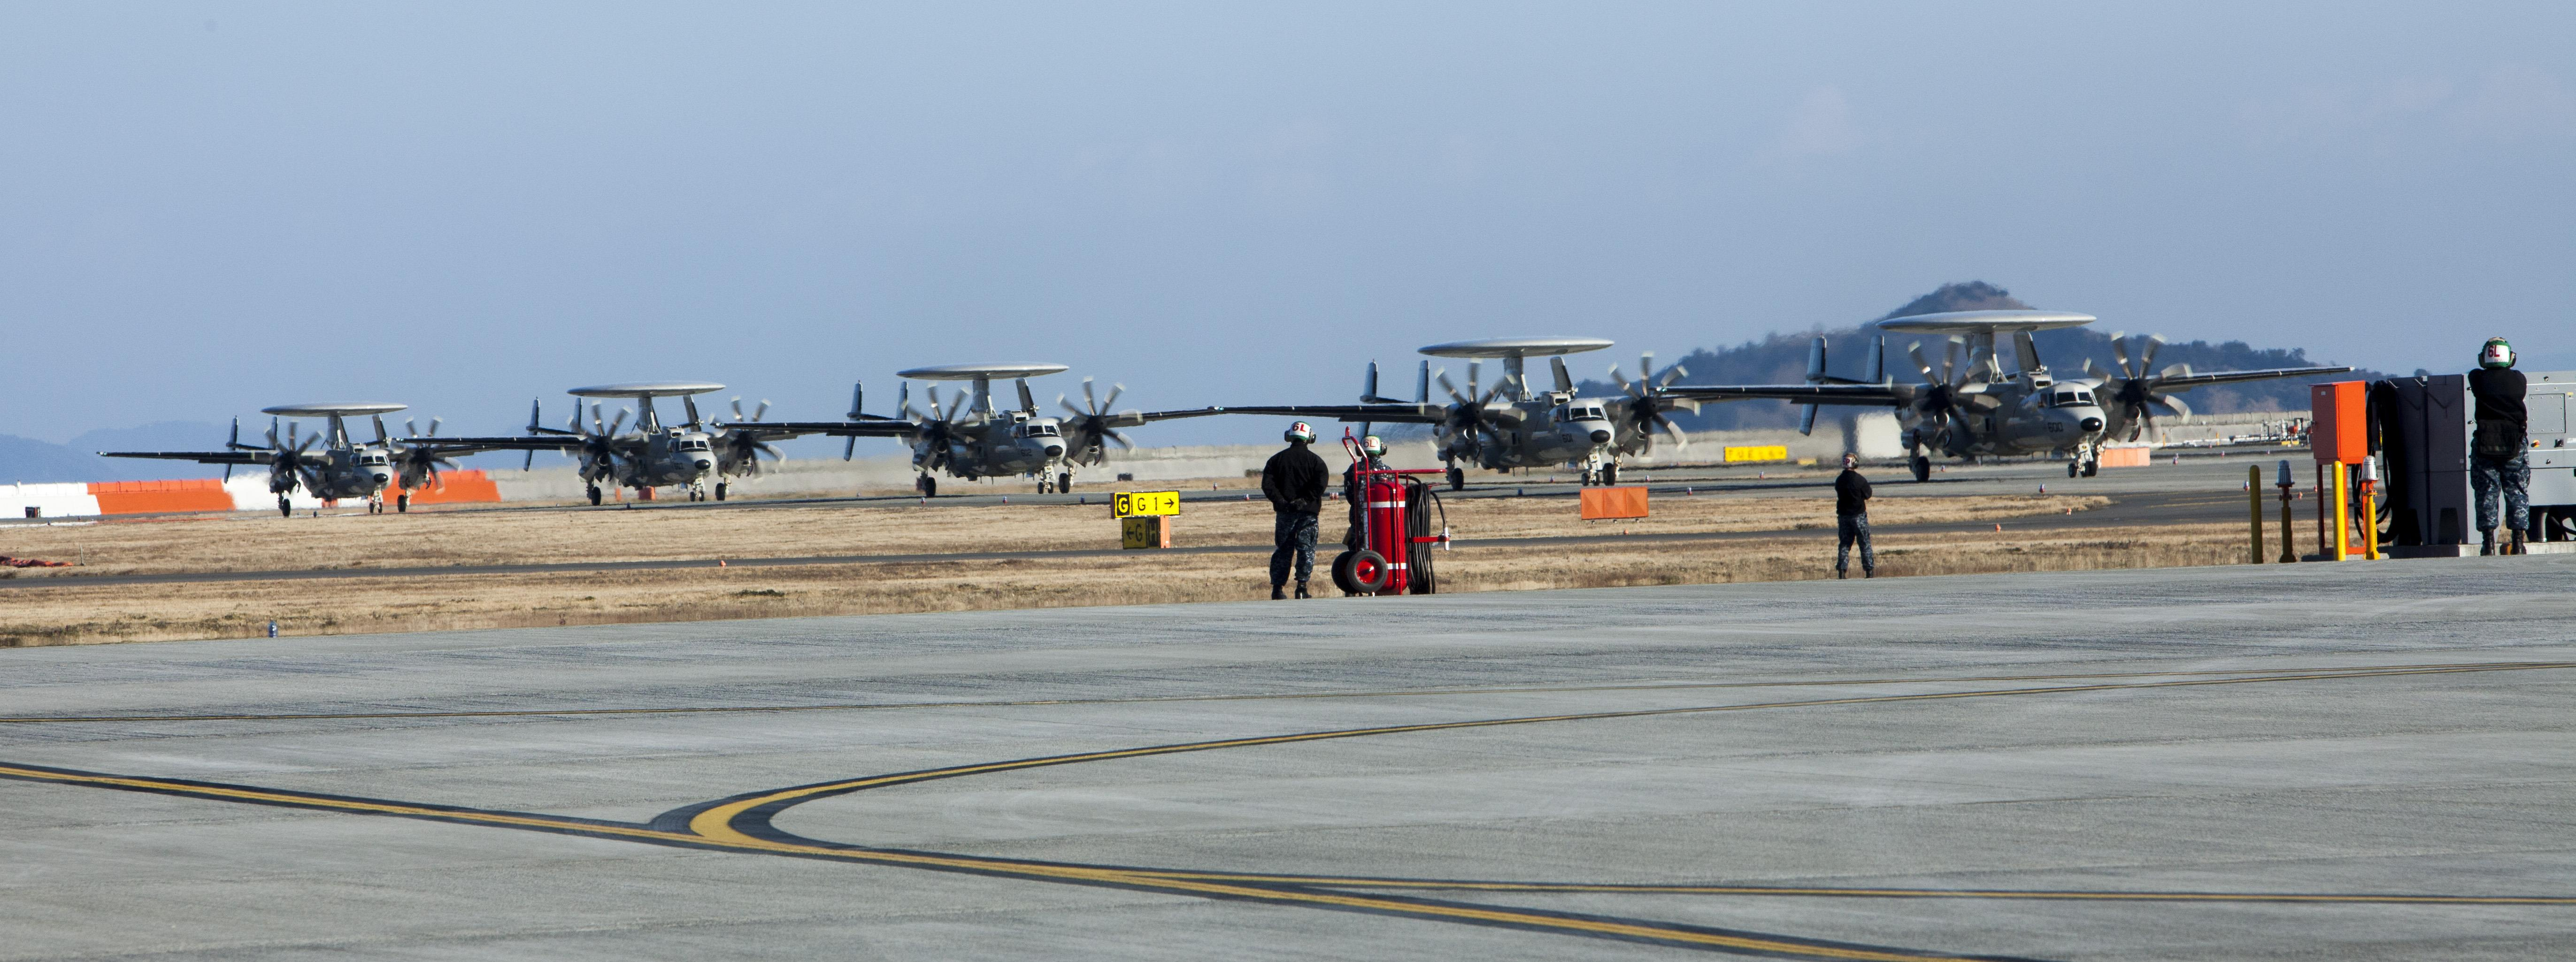E2: (1646, 309, 2356, 481), (1206, 335, 1756, 491), (710, 361, 1229, 497), (391, 379, 826, 506), (95, 402, 501, 517)
